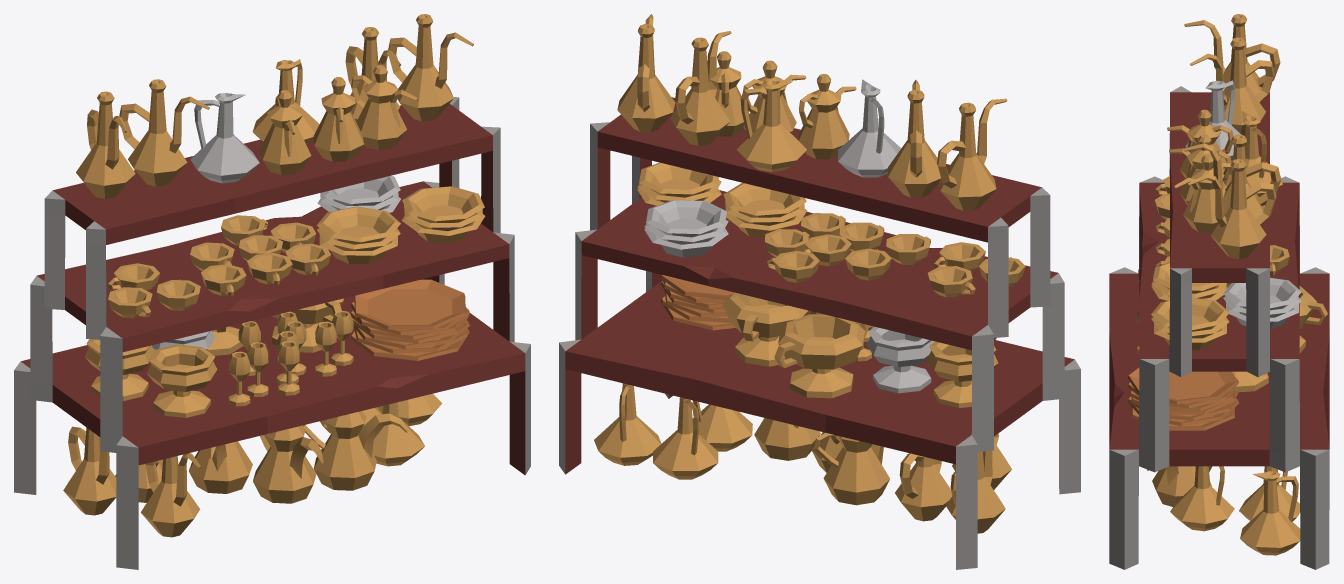
File: SM_Prop_Shelves_Preset_01.glb
3 renders of one model, left to right at view 1: azimuth 30°, elevation 25°; view 2: azimuth 150°, elevation 25°; view 3: azimuth 270°, elevation 25°, orthographic. The views are drawn at different scales.
Visible parts, largest first — view 1: SM_Prop_Shelves_Preset_01; view 2: SM_Prop_Shelves_Preset_01; view 3: SM_Prop_Shelves_Preset_01.
Part boxes in pixels (left/top/right/bottom): SM_Prop_Shelves_Preset_01: left=14, top=14, right=530, bottom=569; SM_Prop_Shelves_Preset_01: left=559, top=14, right=1080, bottom=569; SM_Prop_Shelves_Preset_01: left=1109, top=14, right=1329, bottom=569.
Size of the model in its own units: 2.39 by 2.29 by 1.18.
2 materials, 2 textured.
